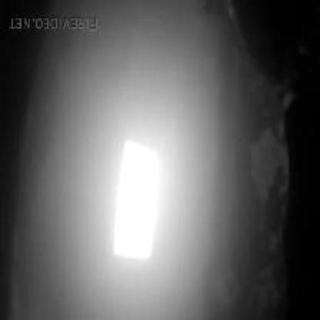other: (113, 130, 171, 298)
